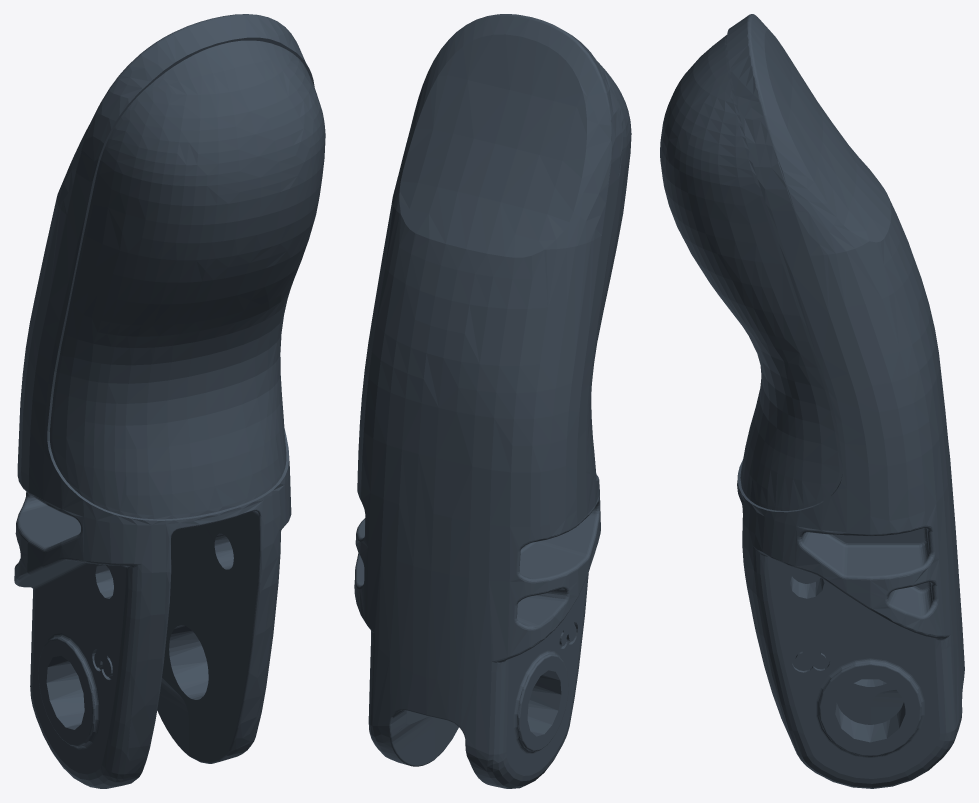
The model's file is rf_dip_link.glb.
The picture shows the model from 3 angles, left to right: view 1: azimuth 30°, elevation 25°; view 2: azimuth 150°, elevation 25°; view 3: azimuth 270°, elevation 25°; orthographic projection. The views are drawn at different scales.
Visible parts, largest first — view 1: rf_dip; view 2: rf_dip; view 3: rf_dip.
Part boxes in pixels (x1=…): rf_dip: x1=14, y1=14, x2=325, y2=788; rf_dip: x1=354, y1=14, x2=631, y2=788; rf_dip: x1=660, y1=14, x2=964, y2=788.
Size of the model in its own units: 0.0147 by 0.047 by 0.0177.
